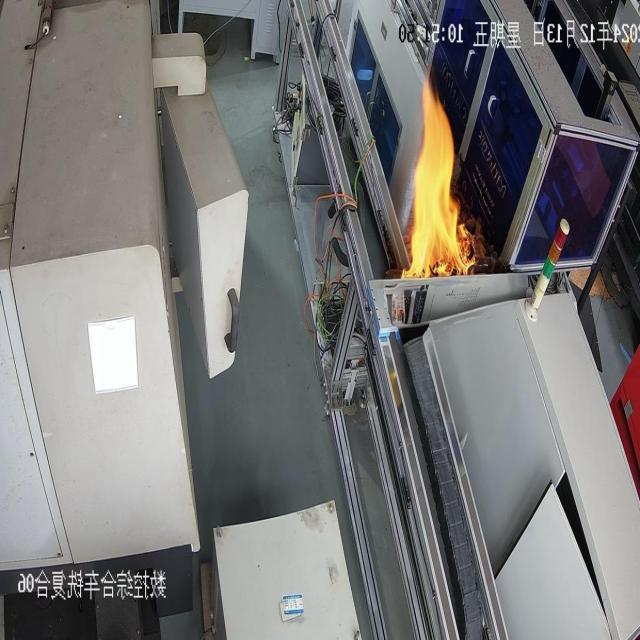smoke: (400, 86, 475, 282)
